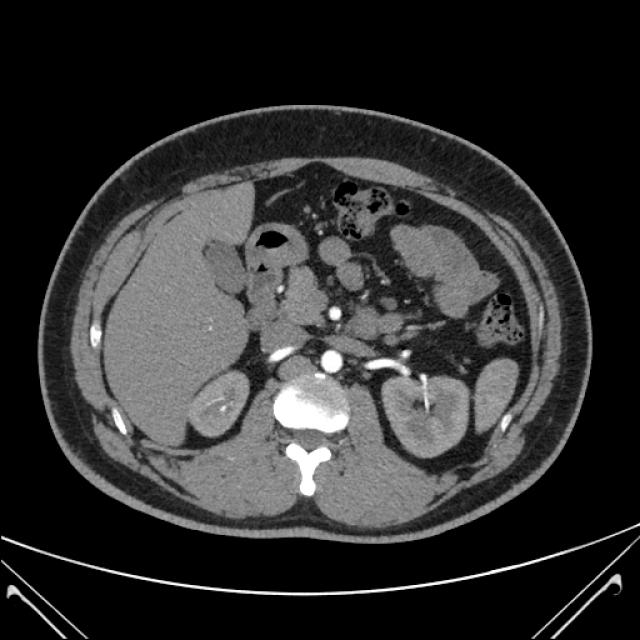Kidney: (28, 60, 610, 545)
